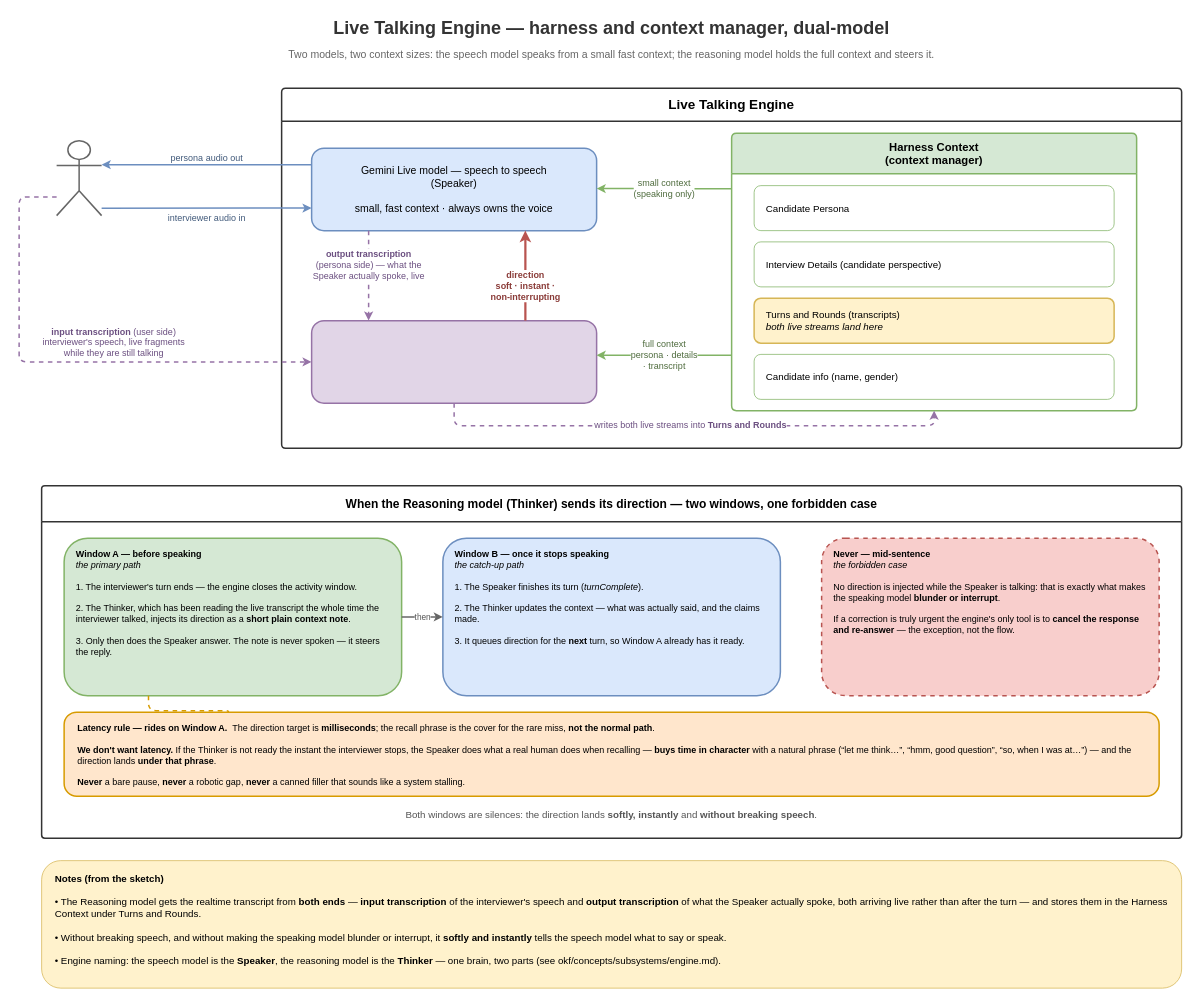
This 1195x1001 diagram has some shape labels left out. The centre of each missing label's shape, as x and y in pixels:
"Reasoning model (Thinker) holds the full context · steers, never speaks" belongs at pixel 453 362.
"User (interviewer, speaking)" belongs at pixel 79 178.
